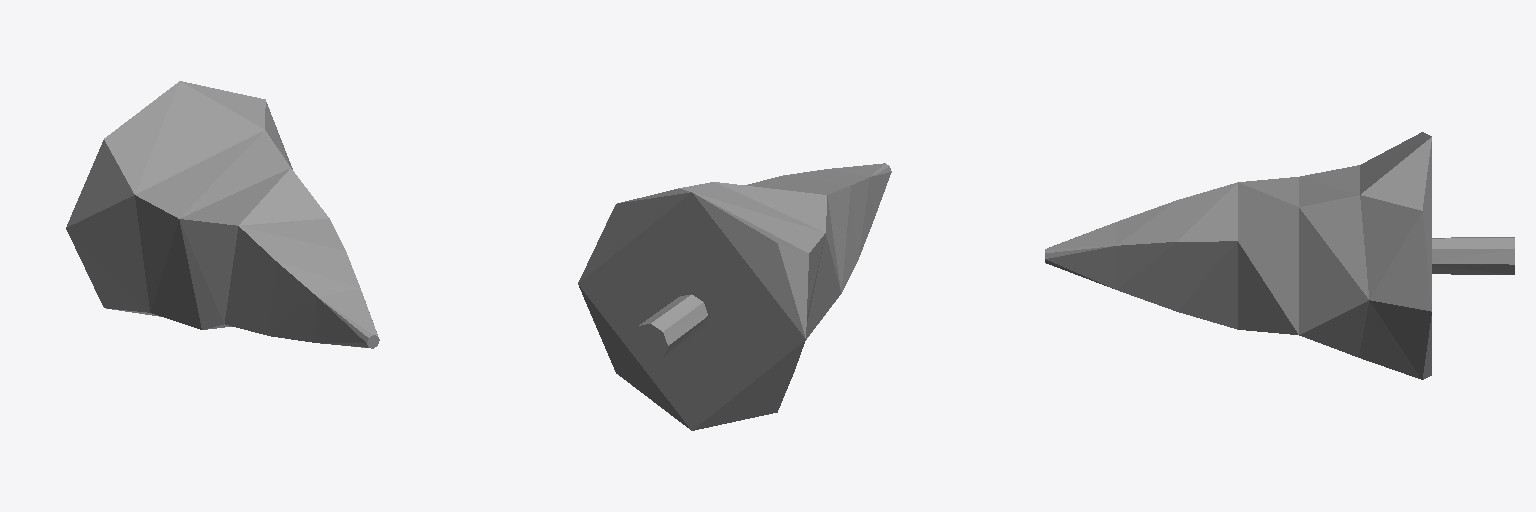
File: pineTree.obj
The picture shows the model from 3 angles: view 1: azimuth 30°, elevation 25°; view 2: azimuth 150°, elevation 25°; view 3: azimuth 270°, elevation 25°; orthographic projection.
Visible parts, largest first — view 1: pineTree; view 2: pineTree; view 3: pineTree.
Part boxes in pixels (bbox=[...]): pineTree: bbox=[66, 81, 379, 348]; pineTree: bbox=[578, 163, 891, 430]; pineTree: bbox=[1045, 132, 1514, 379].
Bounding box in the file's own units: 3.56 × 3.56 × 6.34.